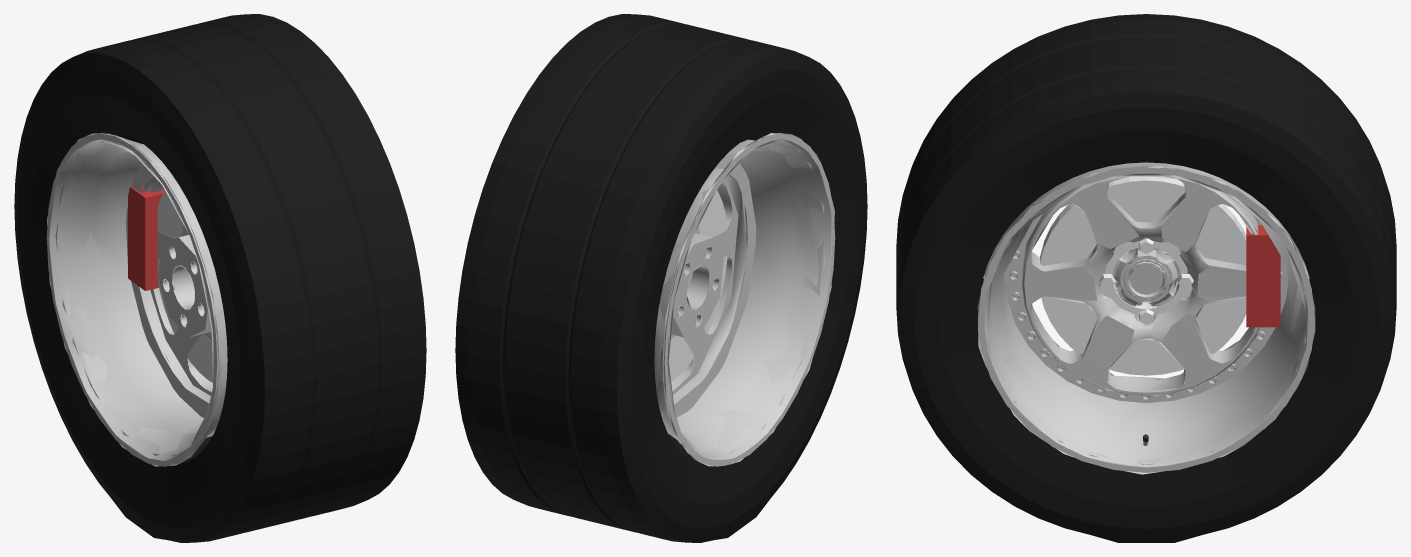
File: WS01D_meister_l1_decimated.glb
3 renders of one model, left to right at view 1: azimuth 30°, elevation 25°; view 2: azimuth 150°, elevation 25°; view 3: azimuth 270°, elevation 25°, orthographic.
Parts seen in each view (by area): view 1: MOD_ND_WS01D_tyre, MOD_ND_WS01D_src_0, MOD_ND_WS01D_src_5, MOD_ND_WS01D_caliper, MOD_ND_WS01D_disc; view 2: MOD_ND_WS01D_tyre, MOD_ND_WS01D_src_0, MOD_ND_WS01D_src_5, MOD_ND_WS01D_disc; view 3: MOD_ND_WS01D_tyre, MOD_ND_WS01D_src_0, MOD_ND_WS01D_src_5, MOD_ND_WS01D_disc, MOD_ND_WS01D_caliper, MOD_ND_WS01D_src_4, MOD_ND_WS01D_src_1, MOD_ND_WS01D_lugs.
Boxes of the visible parts, x1=… form: MOD_ND_WS01D_tyre: x1=14, y1=14, x2=426, y2=542; MOD_ND_WS01D_src_0: x1=46, y1=133, x2=227, y2=466; MOD_ND_WS01D_src_5: x1=143, y1=172, x2=212, y2=405; MOD_ND_WS01D_caliper: x1=128, y1=185, x2=164, y2=290; MOD_ND_WS01D_disc: x1=157, y1=190, x2=212, y2=382; MOD_ND_WS01D_tyre: x1=455, y1=14, x2=867, y2=542; MOD_ND_WS01D_src_0: x1=654, y1=133, x2=835, y2=466; MOD_ND_WS01D_src_5: x1=670, y1=173, x2=745, y2=404; MOD_ND_WS01D_disc: x1=668, y1=190, x2=727, y2=381; MOD_ND_WS01D_tyre: x1=896, y1=14, x2=1396, y2=542; MOD_ND_WS01D_src_0: x1=977, y1=162, x2=1315, y2=474; MOD_ND_WS01D_src_5: x1=1004, y1=176, x2=1288, y2=402; MOD_ND_WS01D_disc: x1=1039, y1=176, x2=1246, y2=375; MOD_ND_WS01D_caliper: x1=1246, y1=225, x2=1280, y2=327; MOD_ND_WS01D_src_4: x1=1124, y1=259, x2=1168, y2=299; MOD_ND_WS01D_src_1: x1=1010, y1=231, x2=1284, y2=399; MOD_ND_WS01D_lugs: x1=1099, y1=238, x2=1193, y2=324.
Bounding box in the file's own units: 0.2609 × 0.641 × 0.641.
